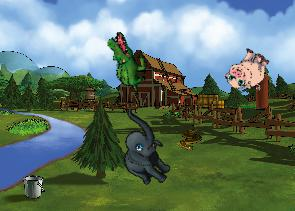crocodile: (93, 29, 160, 96)
elephant: (99, 107, 188, 192)
pig: (221, 43, 274, 97)
